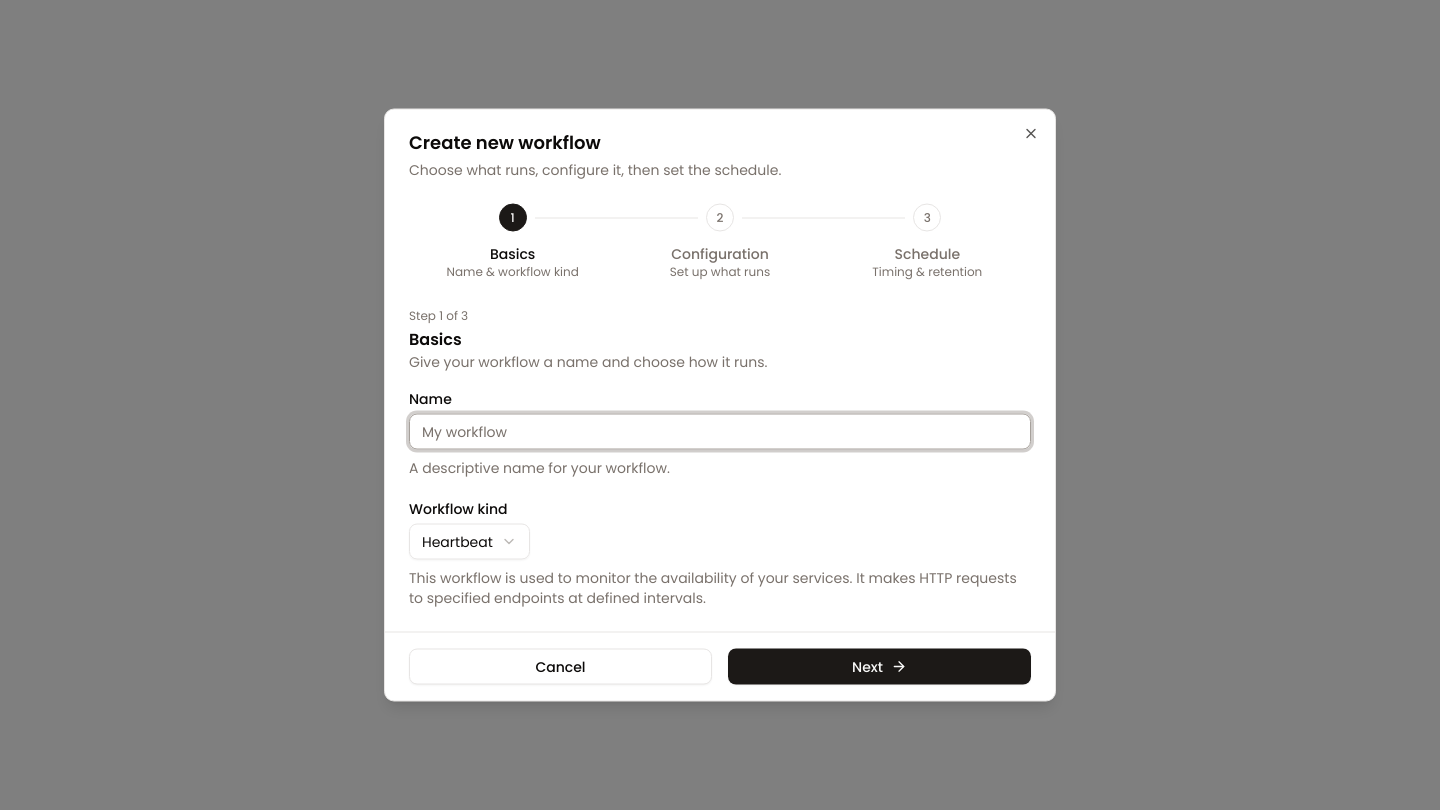
Test case: walks the three steps, marking the current one and the completed ones
The image size is (1440, 810).
Expected: the text "Step 1 of 3" is shown, left=409, top=306, right=468, bottom=324
Expected: the heading "Basics" is shown, left=409, top=328, right=462, bottom=350
Type "API heartbeat" into the field labelled "Name" at (720,432), box left=409, top=414, right=1031, bottom=450
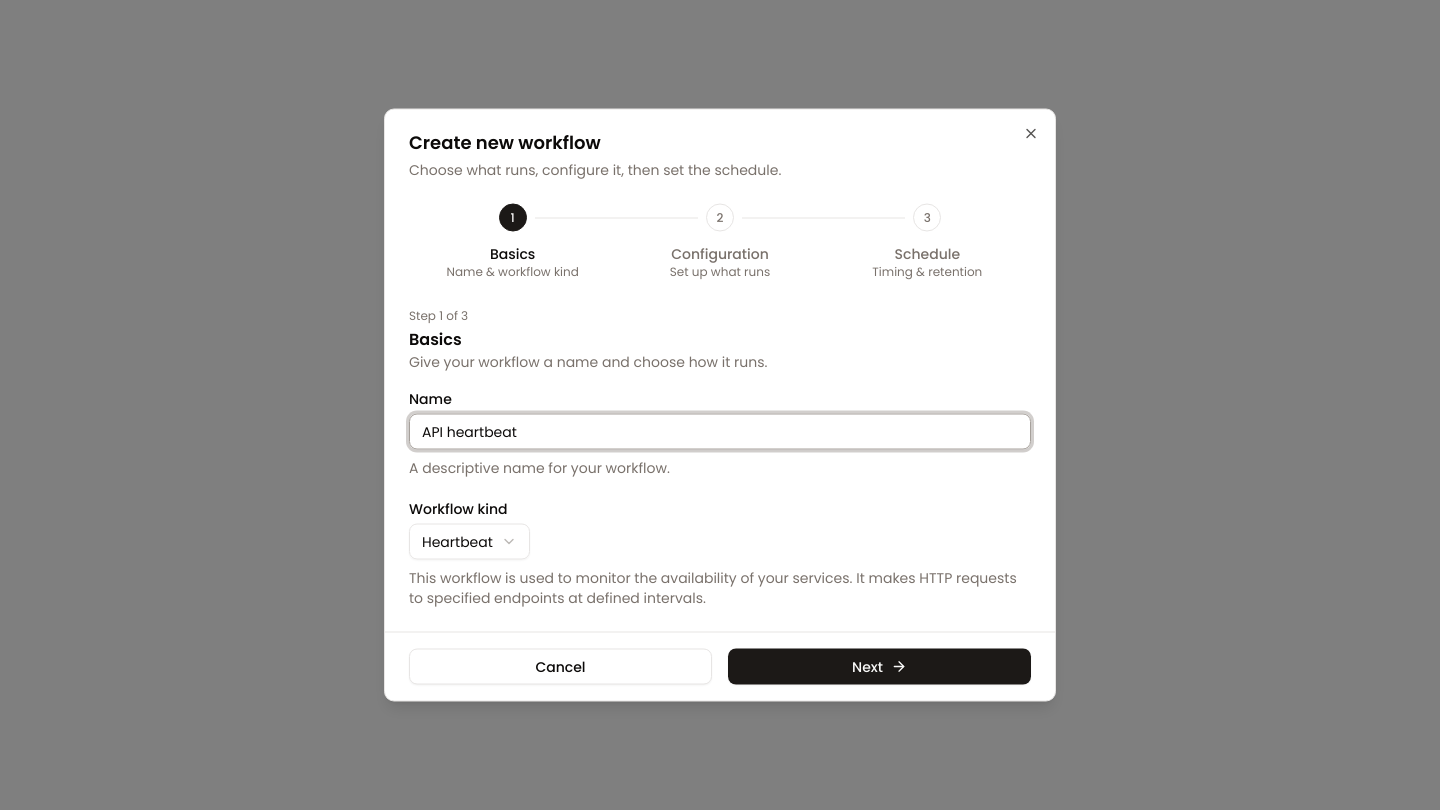
Click the button "Next" at (880,666), box left=728, top=648, right=1031, bottom=684
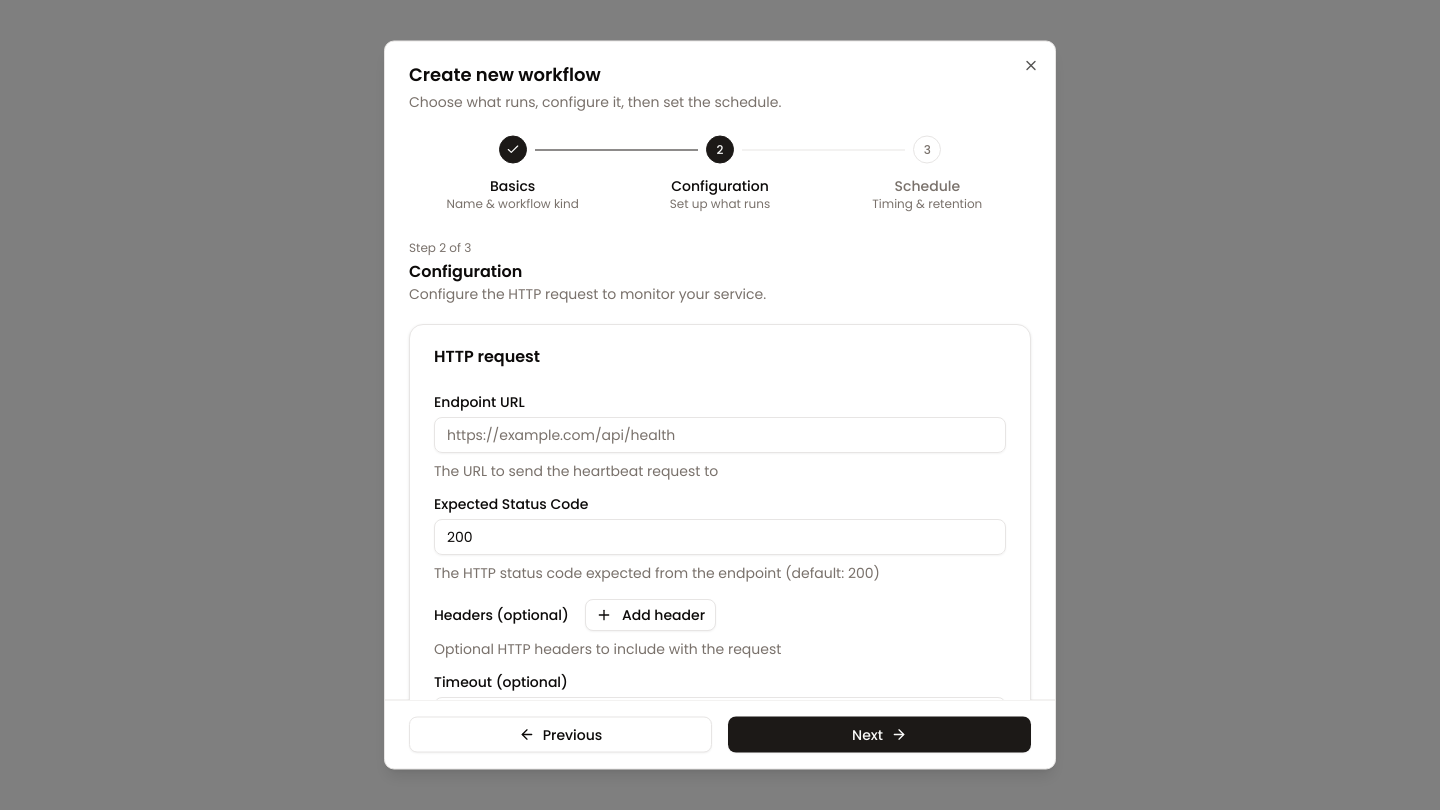
Result: the heading "Configuration" is shown at left=409, top=260, right=522, bottom=282
Result: the text "Configure the HTTP request to monitor your service." is shown at left=409, top=284, right=766, bottom=304
Result: the button "Previous" is shown
Click the button "Previous" at (560,734), box left=409, top=716, right=712, bottom=752
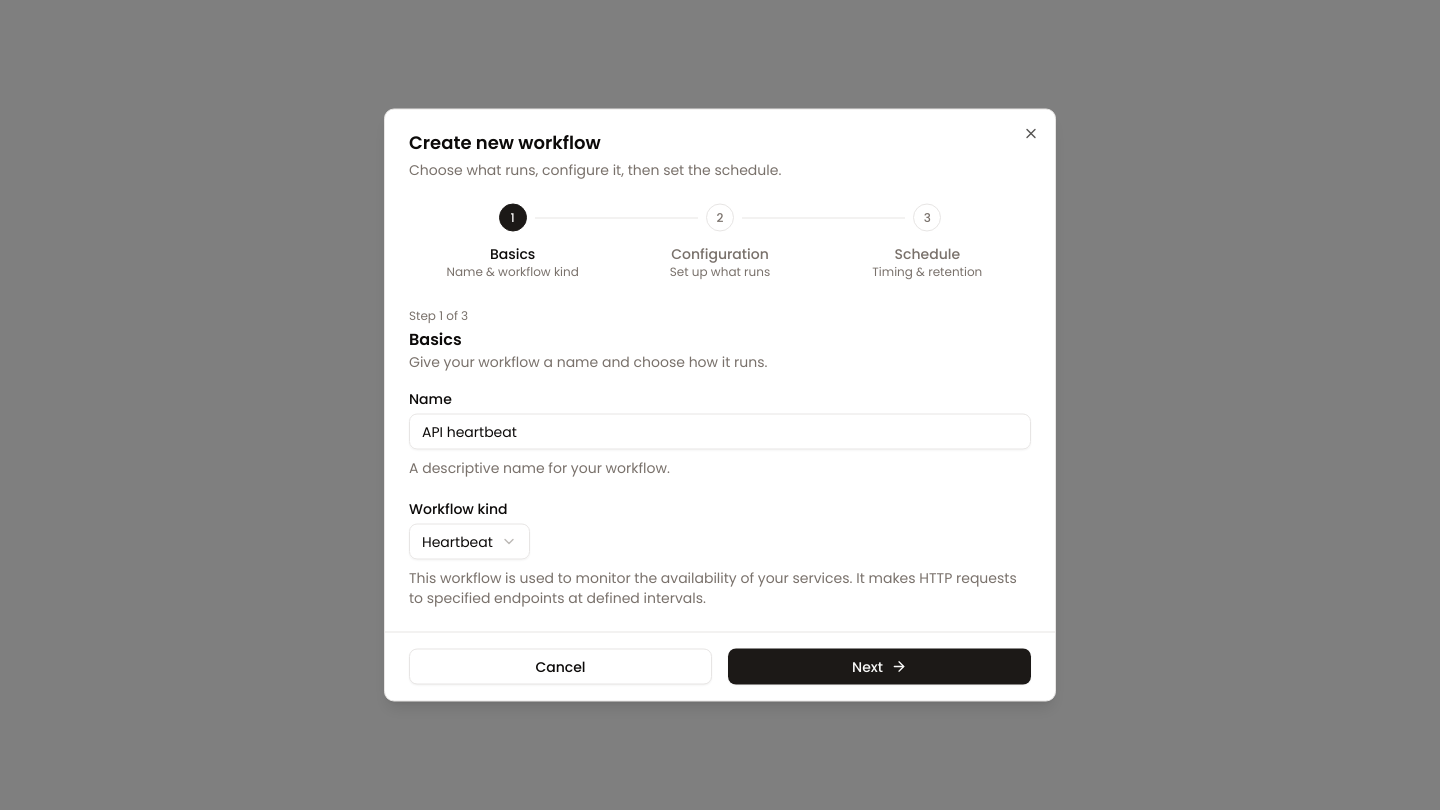
Result: the heading "Basics" is shown at left=409, top=328, right=462, bottom=350
Result: the button "Previous" is gone
Result: the button "Cancel" is shown at left=409, top=648, right=712, bottom=684
